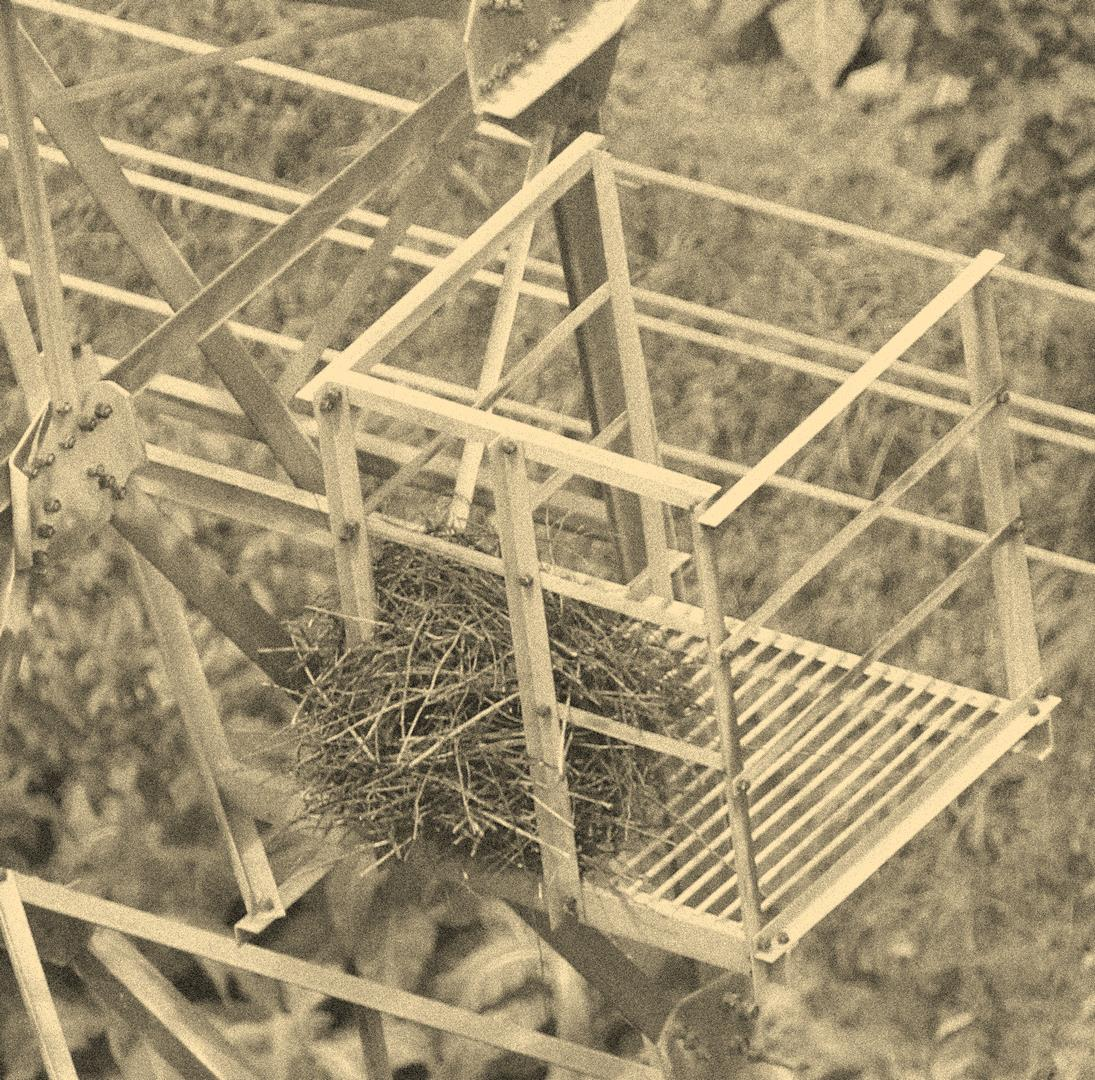niaowo: (287, 527, 699, 878)
